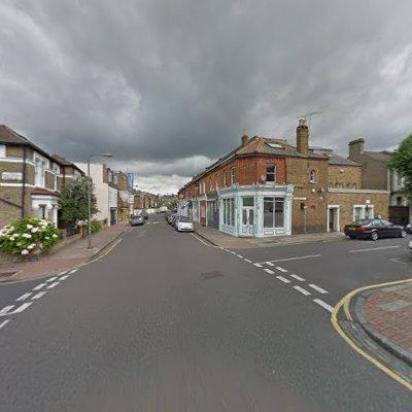stationary-car-onstreet: (344, 218, 408, 242), (176, 216, 194, 232), (132, 215, 144, 227), (168, 213, 176, 225), (408, 237, 412, 258), (406, 222, 412, 234)
stationary-light-truck-onstreet: (161, 206, 169, 213)
